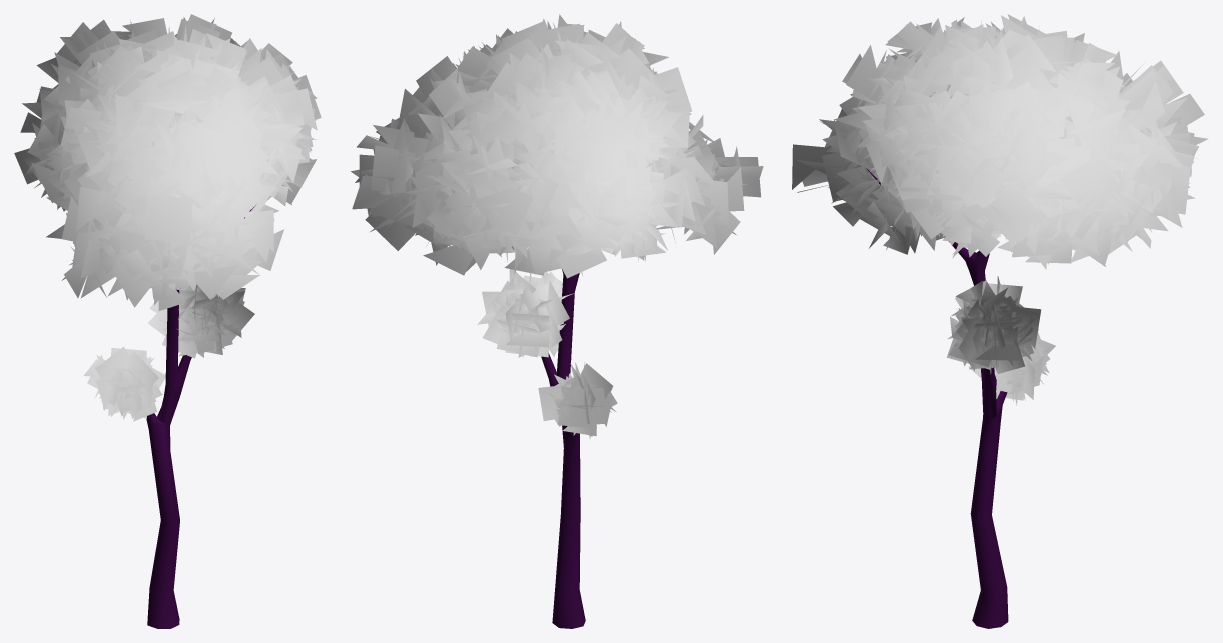
Rendered from m_TreeHigh3_LOD0.fbx.
3 renders of one model, left to right at view 1: azimuth 30°, elevation 25°; view 2: azimuth 150°, elevation 25°; view 3: azimuth 270°, elevation 25°, orthographic. The views are drawn at different scales.
Visible parts, largest first — view 1: TreeHigh3_LOD0; view 2: TreeHigh3_LOD0; view 3: TreeHigh3_LOD0.
Boxes of the visible parts, box(x1,y1,x2,y2) form: TreeHigh3_LOD0: box(14, 14, 321, 628); TreeHigh3_LOD0: box(351, 14, 763, 628); TreeHigh3_LOD0: box(792, 14, 1207, 628).
Size of the model in its own units: 1738 by 3251 by 2036.
